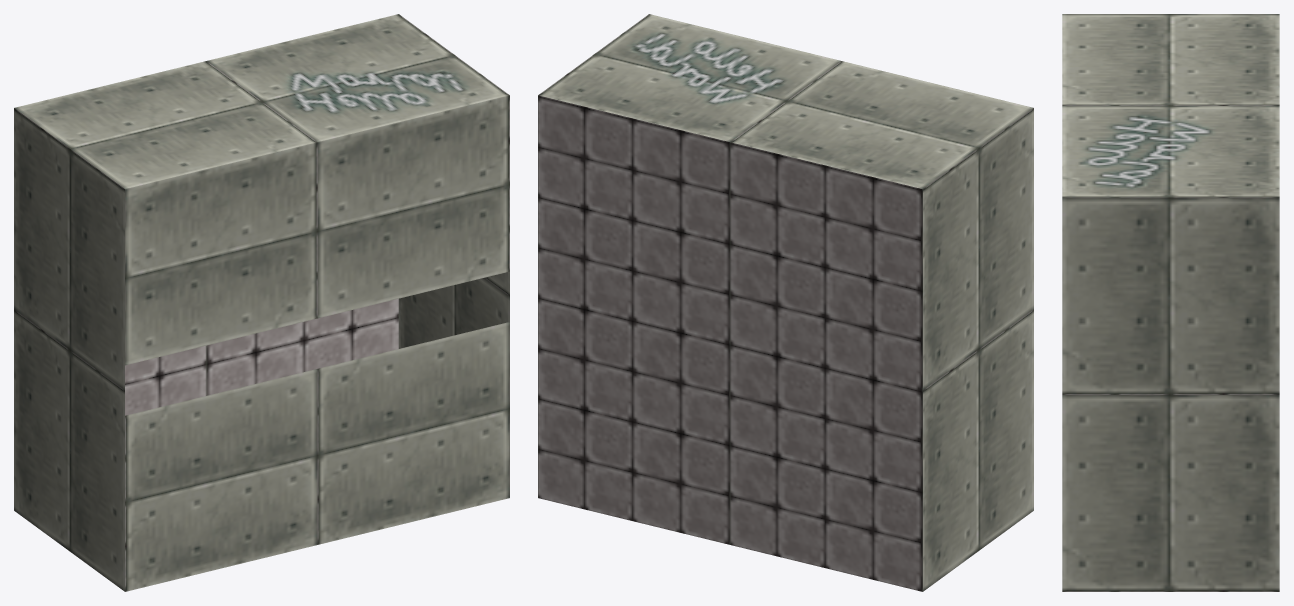
File: tile-game-room1.glb
The picture shows the model from 3 angles, left to right: view 1: azimuth 30°, elevation 25°; view 2: azimuth 150°, elevation 25°; view 3: azimuth 270°, elevation 25°; orthographic projection. The views are drawn at different scales.
Visible parts, largest first — view 1: Base; view 2: Base; view 3: Base.
Part boxes in pixels (x1,y1,x2,y2): Base: (14,14,509,591); Base: (538,14,1033,591); Base: (1062,14,1279,591).
Bounding box in the file's own units: 8 × 8 × 4.
1 material, 1 textured.
